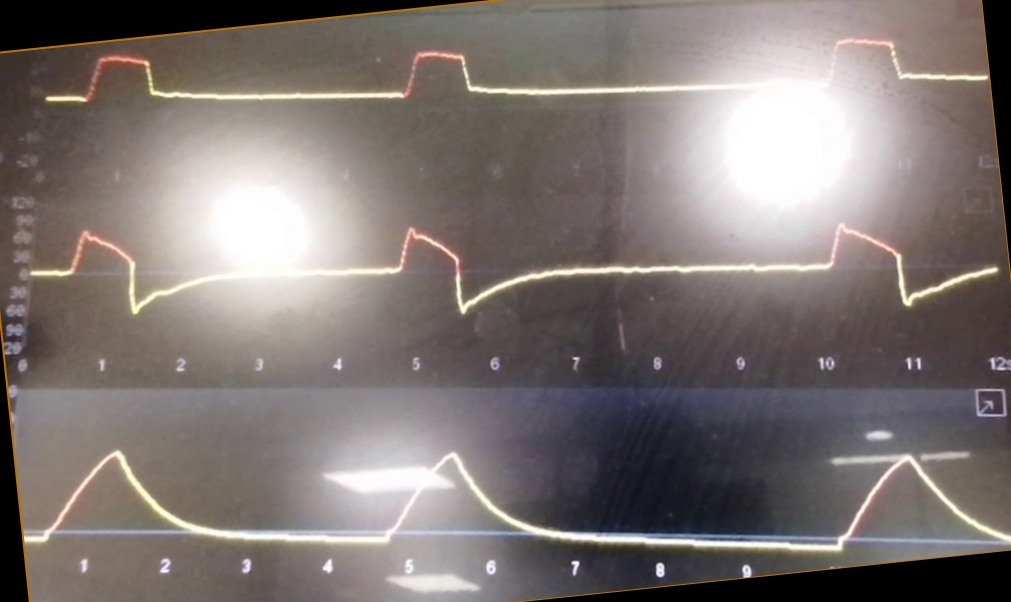Normal Flow: (31, 205, 1002, 343)
Normal Volume: (26, 419, 1009, 555)
